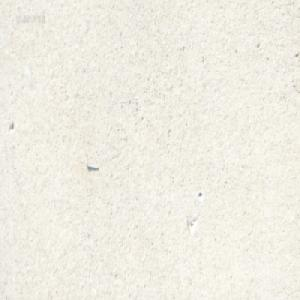Nail: (85, 161, 99, 169)
